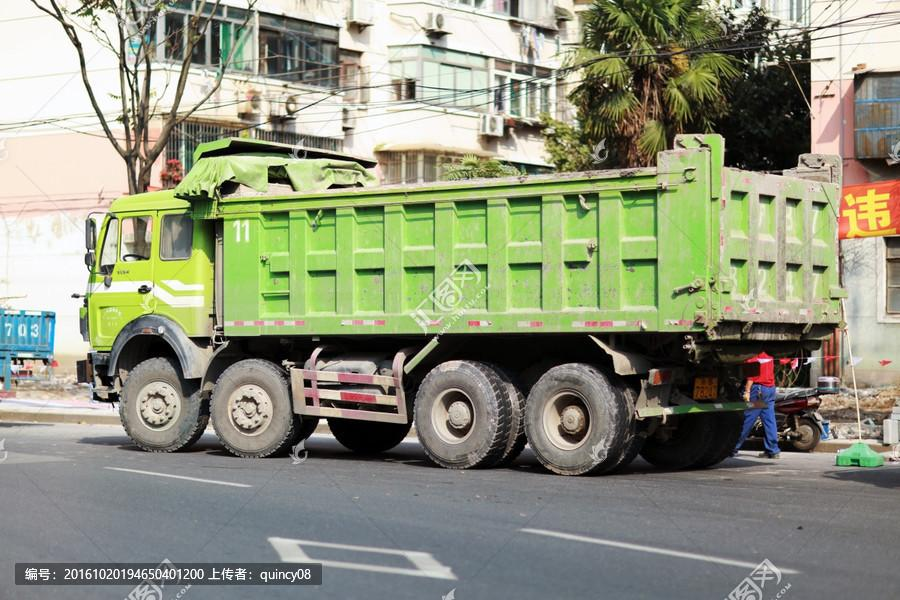truck: (83, 102, 846, 488)
